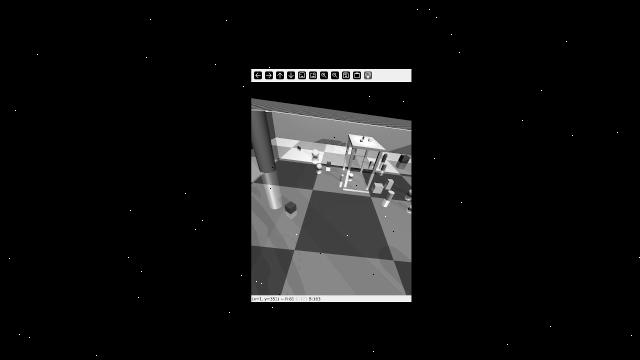cilindro: (251, 107, 280, 173), (386, 189, 397, 201), (382, 153, 391, 163), (381, 163, 388, 171), (340, 173, 345, 182), (297, 144, 301, 150), (362, 135, 366, 139), (354, 148, 358, 152)
cuadrado: (283, 200, 301, 213), (398, 151, 409, 165), (387, 177, 395, 187), (326, 160, 332, 168), (369, 136, 374, 143)
esfera: (309, 147, 322, 157), (314, 162, 323, 170), (407, 187, 413, 197), (348, 173, 355, 177), (408, 205, 413, 210), (359, 138, 364, 143)
rectangulo: (368, 158, 379, 168), (373, 182, 385, 191)
